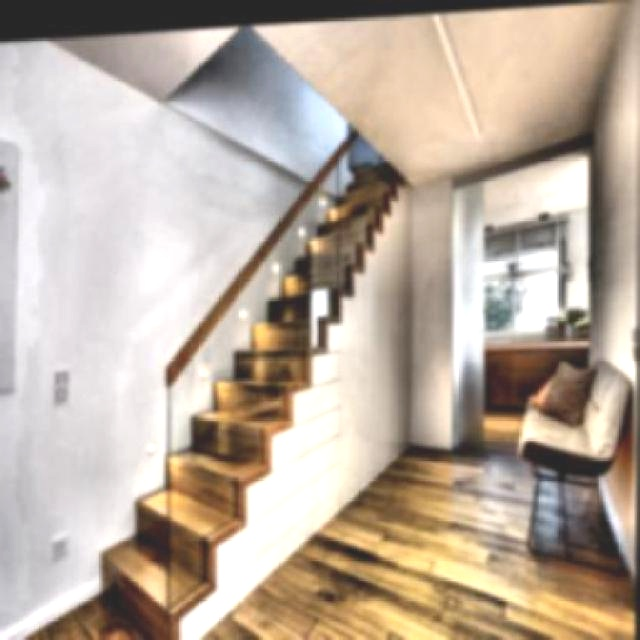stair: (102, 180, 404, 563)
